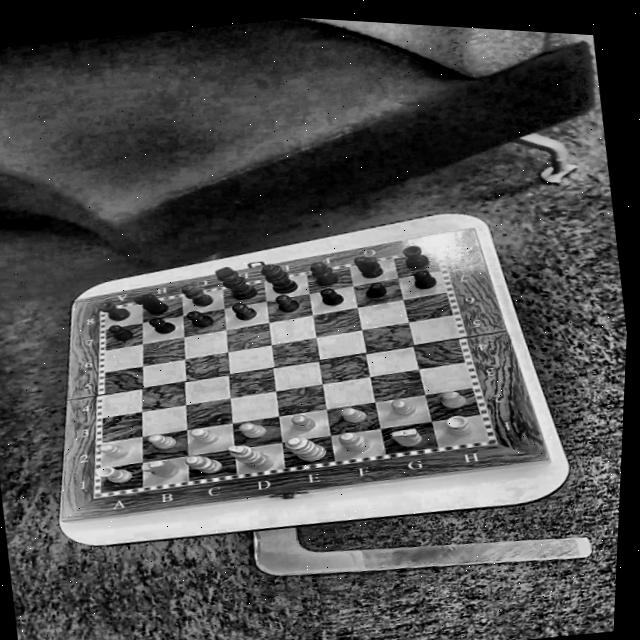chessboard: (99, 250, 487, 492)
